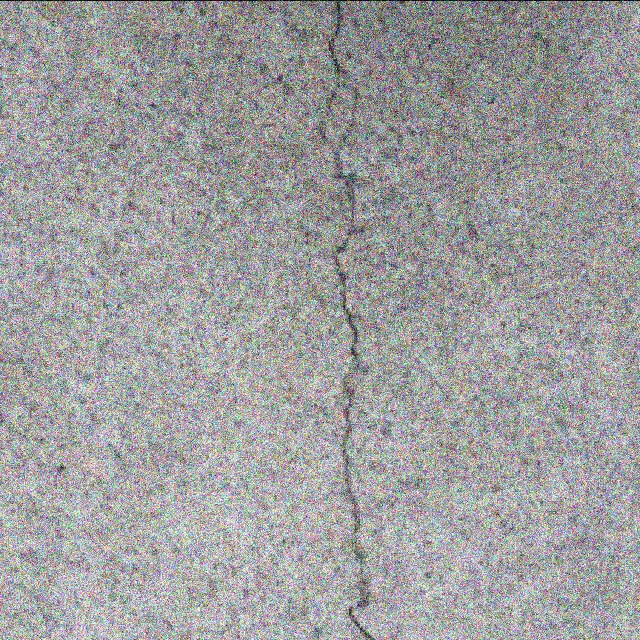SurfaceCrack: (292, 0, 416, 640)
